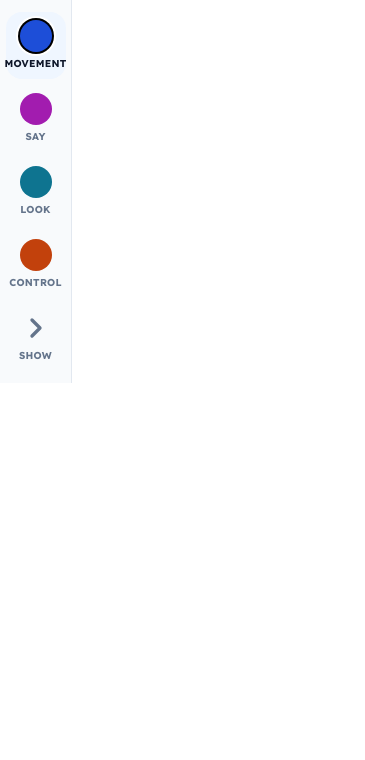
it: BlockPalette › opens a folded palette at the category pressed
This screenshot has width=365, height=760.
Click the button "LOOK".
click(36, 192)  # box 6,158 -> 66,225
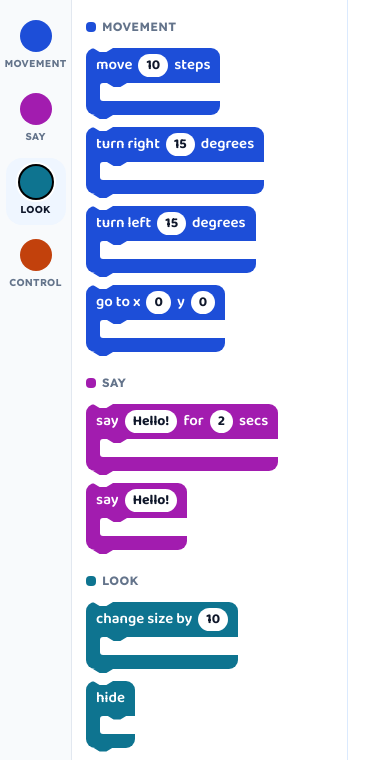
Expected: the heading "LOOK" is shown, 86,573 -> 139,588
